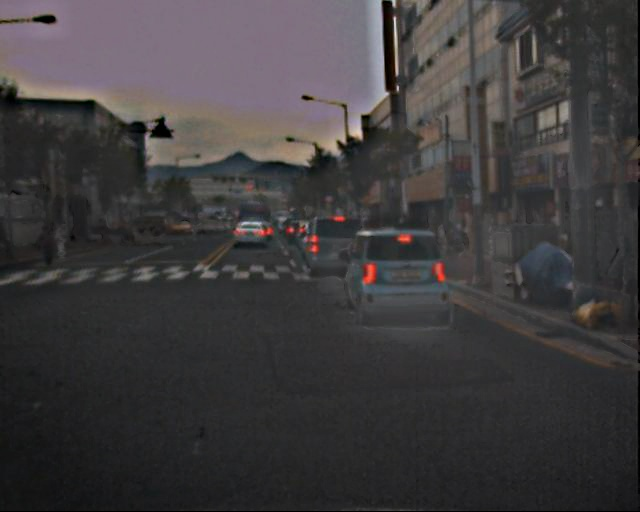person: (38, 220, 71, 272)
